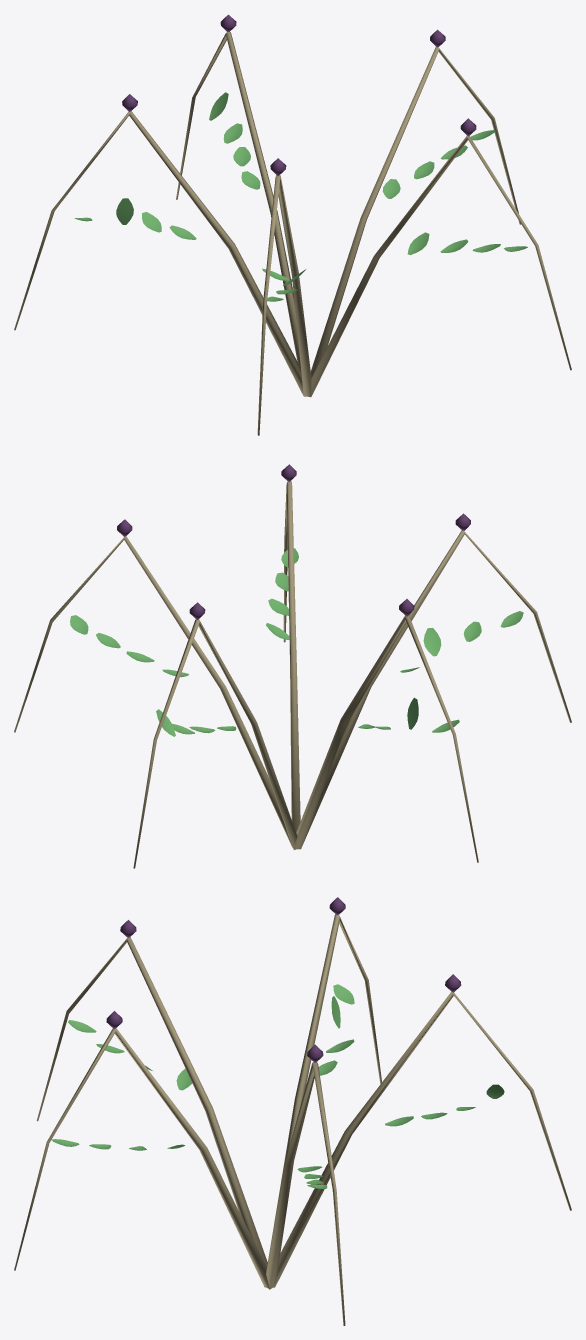
The model's file is shrub_wild_blackberry.glb.
3 views of the same model, one above another, from view 1: azimuth 30°, elevation 25°; view 2: azimuth 150°, elevation 25°; view 3: azimuth 270°, elevation 25° (orthographic). The views are drawn at different scales.
Visible parts, largest first — view 1: Flora_Wild_Blackberry; view 2: Flora_Wild_Blackberry; view 3: Flora_Wild_Blackberry.
Boxes of the visible parts, box(x1,y1,x2,y2) form: Flora_Wild_Blackberry: box(14, 14, 571, 435); Flora_Wild_Blackberry: box(14, 464, 571, 868); Flora_Wild_Blackberry: box(14, 897, 571, 1325).
Size of the model in its own units: 2.19 by 1.34 by 2.13.
